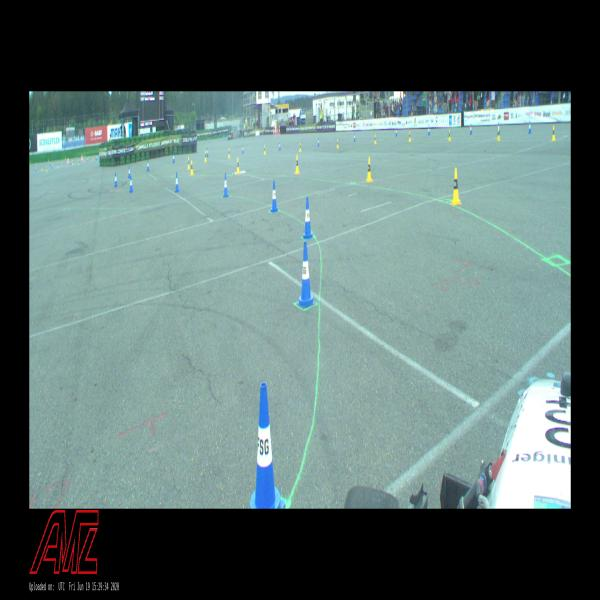blue_cone: (250, 382, 286, 508), (297, 242, 316, 308), (303, 198, 313, 238), (271, 181, 278, 212), (224, 173, 228, 197), (175, 173, 179, 192), (129, 176, 133, 192), (114, 173, 118, 187), (528, 121, 531, 134), (128, 166, 130, 178), (147, 160, 149, 171), (470, 124, 472, 134), (206, 148, 208, 157), (428, 126, 430, 135), (279, 142, 281, 151), (242, 145, 244, 153), (354, 133, 355, 142), (173, 153, 174, 162), (318, 138, 319, 146), (396, 128, 397, 136)
yellow_cone: (450, 168, 462, 205), (367, 156, 372, 182), (295, 155, 299, 174), (190, 160, 194, 176), (237, 157, 240, 174), (552, 126, 555, 140), (204, 150, 207, 162), (448, 130, 451, 141), (497, 129, 500, 140), (188, 157, 190, 169), (228, 148, 230, 159), (409, 132, 411, 142), (374, 134, 376, 144), (299, 142, 301, 151), (264, 144, 265, 154), (337, 139, 338, 148)
